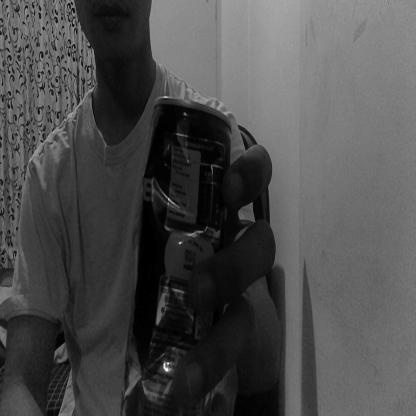alumunium_can: (119, 96, 233, 416)
